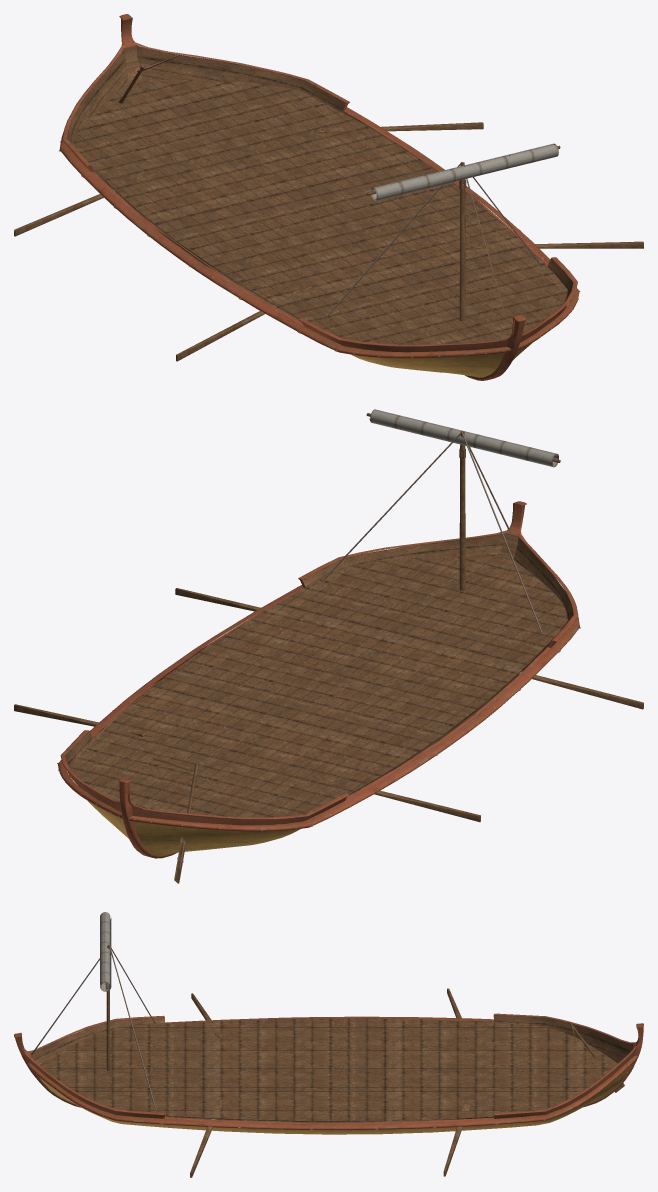
The model's file is herculaneum-v98.glb.
3 renders of one model, top to bottom at view 1: azimuth 30°, elevation 25°; view 2: azimuth 150°, elevation 25°; view 3: azimuth 270°, elevation 25°, orthographic. The views are drawn at different scales.
Parts seen in each view (by area): view 1: Battle deck planks, HB Hull_Painted Hull Trim Red-Yellow_0, HB Hull_Hull_0, Deck backing, 0, HB Hull_Painted Hull Yellow_0, HB Oar.L.001_Hull Trim _0, HB Oar.R.001_Hull Trim _0, HB Yard_Hull Trim _0, Simplified stays; view 2: Battle deck planks, HB Hull_Painted Hull Trim Red-Yellow_0, Deck backing, HB Hull_Hull_0, HB Hull_Painted Hull Yellow_0, 0, HB Oar.R.001_Hull Trim _0, HB Oar.L.001_Hull Trim _0, Simplified stays, HB Yard_Hull Trim _0; view 3: Battle deck planks, HB Hull_Painted Hull Trim Red-Yellow_0, HB Hull_Hull_0, Deck backing, HB Hull_Painted Hull Yellow_0, 0, HB Oar.L.001_Hull Trim _0, Simplified stays, HB Oar.R.001_Hull Trim _0.
Boxes of the visible parts, x1,y1,x2,y2 form: Battle deck planks: (73, 80, 567, 344); HB Hull_Painted Hull Trim Red-Yellow_0: (59, 14, 580, 380); HB Hull_Hull_0: (67, 45, 572, 320); Deck backing: (74, 81, 566, 344); 0: (370, 143, 558, 200); HB Hull_Painted Hull Yellow_0: (351, 343, 531, 377); HB Oar.L.001_Hull Trim _0: (314, 122, 643, 248); HB Oar.R.001_Hull Trim _0: (14, 172, 311, 361); HB Yard_Hull Trim _0: (367, 145, 560, 321); Simplified stays: (324, 162, 542, 333); Battle deck planks: (71, 556, 567, 825); HB Hull_Painted Hull Trim Red-Yellow_0: (57, 501, 580, 858); Deck backing: (74, 557, 567, 824); HB Hull_Hull_0: (65, 533, 573, 822); HB Hull_Painted Hull Yellow_0: (88, 801, 300, 854); 0: (369, 409, 558, 467); HB Oar.R.001_Hull Trim _0: (314, 659, 643, 822); HB Oar.L.001_Hull Trim _0: (14, 588, 310, 736); Simplified stays: (323, 432, 542, 632); HB Yard_Hull Trim _0: (366, 413, 560, 591); Battle deck planks: (41, 1018, 617, 1121); HB Hull_Painted Hull Trim Red-Yellow_0: (14, 1013, 643, 1129); HB Hull_Hull_0: (31, 1015, 633, 1123); Deck backing: (43, 1027, 611, 1121); HB Hull_Painted Hull Yellow_0: (40, 1066, 629, 1134); 0: (100, 912, 111, 991); HB Oar.L.001_Hull Trim _0: (190, 1099, 471, 1177); Simplified stays: (31, 945, 155, 1107); HB Oar.R.001_Hull Trim _0: (191, 988, 469, 1038).
Bounding box in the file's own units: 11.15 × 4.85 × 16.52.
Materials: 6 (6 with a texture image).
